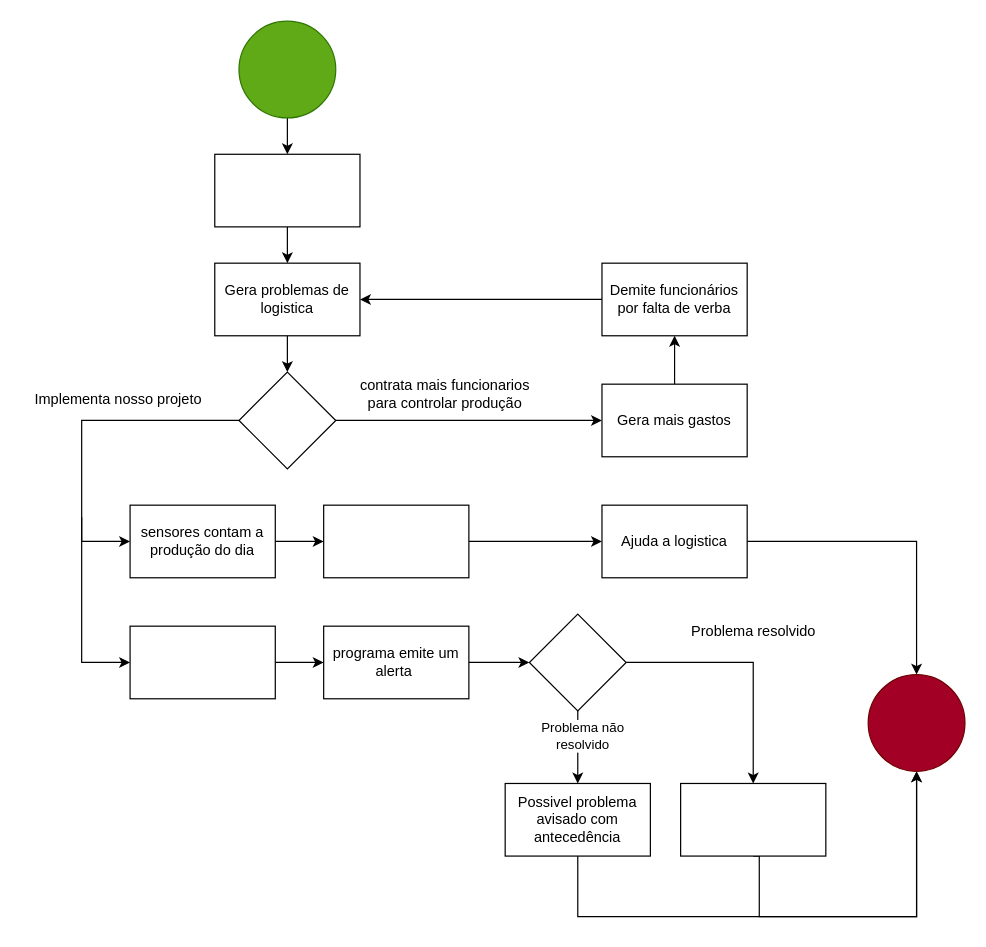
The diagram is 986 pixels wide and 947 high, and some of its shapes have lost their labels. Here are the shapes that lost their labels. From the top down, the centre of each, then its label:
At (x=287, y=190): "Industria produz muito e não controla".
At (x=395, y=541): "programa calcula a renda por dia / mês".
At (x=202, y=662): "sensores detectam produção reduzida".
At (x=752, y=819): "Produção se mantém alta".
